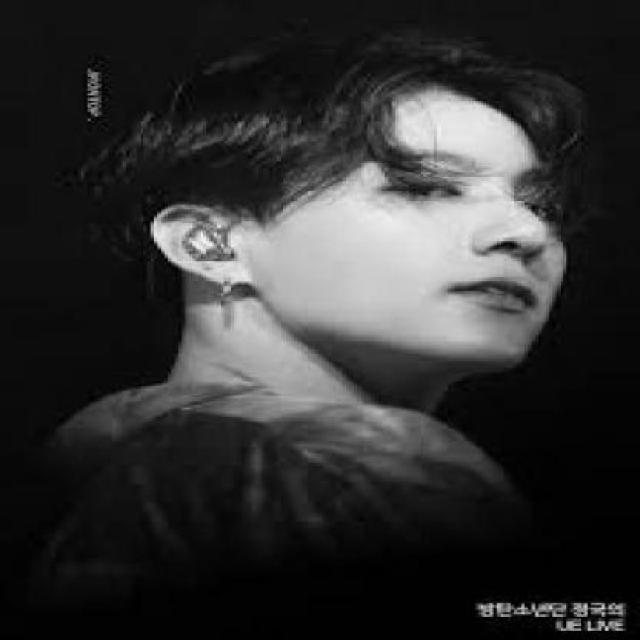earphone: (168, 209, 233, 276)
